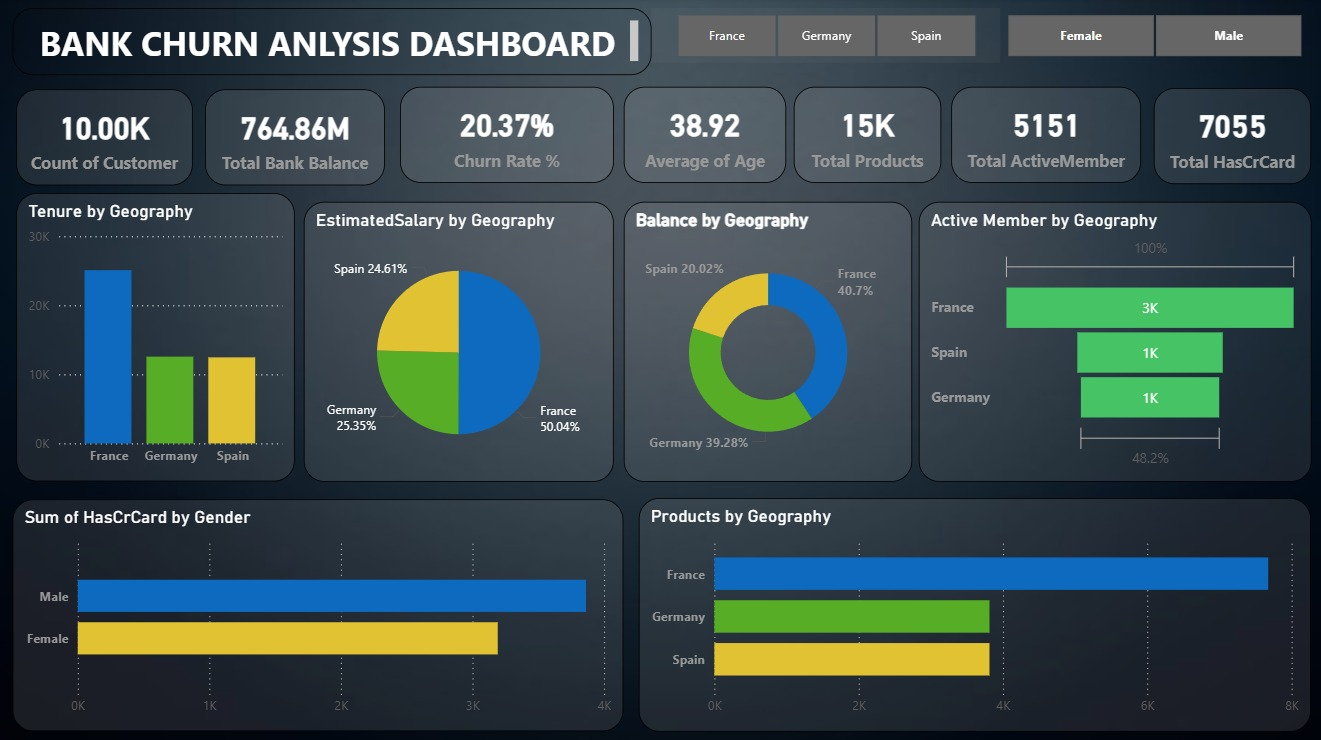

Layout of this report page (visuals, bound fields, positions):
{"tool":"powerbi","page":{"name":"Page 1","canvas":[1280,720],"ordinal":0},"visuals":[{"type":"card","fields":{"Values":["Avg(Bank_Churn.Age)"]},"box":[602,85.7,156.8,92.9],"z":0},{"type":"card","fields":{"Values":["Sum(Bank_Churn.Balance)"]},"box":[197.9,88.1,173.7,92.9],"z":1000},{"type":"card","fields":{"Values":["Avg(Bank_Churn.CreditScore)"]},"box":[386.1,85.7,206.3,92.9],"z":2000},{"type":"card","fields":{"Values":["CountNonNull(Bank_Churn.CustomerId)"]},"box":[15.7,88.1,170.1,92.9],"z":3000},{"type":"donutChart","fields":{"Category":["Bank_Churn.Geography"],"Y":["Sum(Bank_Churn.Balance)"]},"box":[602,196.6,278.7,270.2],"z":4000},{"type":"card","fields":{"Values":["Sum(Bank_Churn.NumOfProducts)"]},"box":[766.1,85.7,142.4,92.9],"z":5000},{"type":"card","fields":{"Values":["Sum(Bank_Churn.IsActiveMember)"]},"box":[918.1,85.7,183.4,92.9],"z":6000},{"type":"card","fields":{"Values":["Sum(Bank_Churn.HasCrCard)"]},"box":[1113.5,86.9,152,92.9],"z":7000},{"type":"pieChart","fields":{"Category":["Bank_Churn.Geography"],"Y":["Sum(Bank_Churn.EstimatedSalary)"]},"box":[293.2,196.6,299.2,270.2],"z":8000},{"type":"barChart","fields":{"Y":["Sum(Bank_Churn.NumOfProducts)"],"Category":["Bank_Churn.Geography"]},"box":[616.5,482.6,649.1,225.6],"z":9000},{"type":"textbox","box":[12.1,9.7,616.5,65.1],"z":10000},{"type":"slicer","fields":{"Values":["Bank_Churn.Geography"]},"box":[628.6,9.7,336.6,53.1],"z":11000},{"type":"slicer","fields":{"Values":["Bank_Churn.Gender"]},"box":[947.1,9.7,333,53.1],"z":12000},{"type":"funnel","fields":{"Category":["Bank_Churn.Geography"],"Y":["Sum(Bank_Churn.IsActiveMember)"]},"box":[886.7,196.6,378.8,270.2],"z":13000},{"type":"clusteredColumnChart","fields":{"Category":["Bank_Churn.Geography"],"Y":["Sum(Bank_Churn.Tenure)"]},"box":[15.7,188.2,269,278.7],"z":14000},{"type":"barChart","fields":{"Y":["Sum(Bank_Churn.HasCrCard)"],"Category":["Bank_Churn.Gender"]},"box":[12.1,483.8,589.9,224.4],"z":15000}]}

Visuals, with their boxes in screenshot pixels (x1, y1, x2, y2), scaled from the page's 1280x720 canvas onto the 1321x740 screenshot:
card - Avg(Bank_Churn.Age): x1=621, y1=88, x2=783, y2=184
card - Sum(Bank_Churn.Balance): x1=204, y1=91, x2=384, y2=186
card - Avg(Bank_Churn.CreditScore): x1=398, y1=88, x2=611, y2=184
card - CountNonNull(Bank_Churn.CustomerId): x1=16, y1=91, x2=192, y2=186
donutChart - Bank_Churn.Geography x Sum(Bank_Churn.Balance): x1=621, y1=202, x2=909, y2=480
card - Sum(Bank_Churn.NumOfProducts): x1=791, y1=88, x2=938, y2=184
card - Sum(Bank_Churn.IsActiveMember): x1=948, y1=88, x2=1137, y2=184
card - Sum(Bank_Churn.HasCrCard): x1=1149, y1=89, x2=1306, y2=185
pieChart - Bank_Churn.Geography x Sum(Bank_Churn.EstimatedSalary): x1=303, y1=202, x2=611, y2=480
barChart - Sum(Bank_Churn.NumOfProducts) x Bank_Churn.Geography: x1=636, y1=496, x2=1306, y2=728
textbox: x1=12, y1=10, x2=649, y2=77
slicer - Bank_Churn.Geography: x1=649, y1=10, x2=996, y2=65
slicer - Bank_Churn.Gender: x1=977, y1=10, x2=1320, y2=65
funnel - Bank_Churn.Geography x Sum(Bank_Churn.IsActiveMember): x1=915, y1=202, x2=1306, y2=480
clusteredColumnChart - Bank_Churn.Geography x Sum(Bank_Churn.Tenure): x1=16, y1=193, x2=294, y2=480
barChart - Sum(Bank_Churn.HasCrCard) x Bank_Churn.Gender: x1=12, y1=497, x2=621, y2=728
